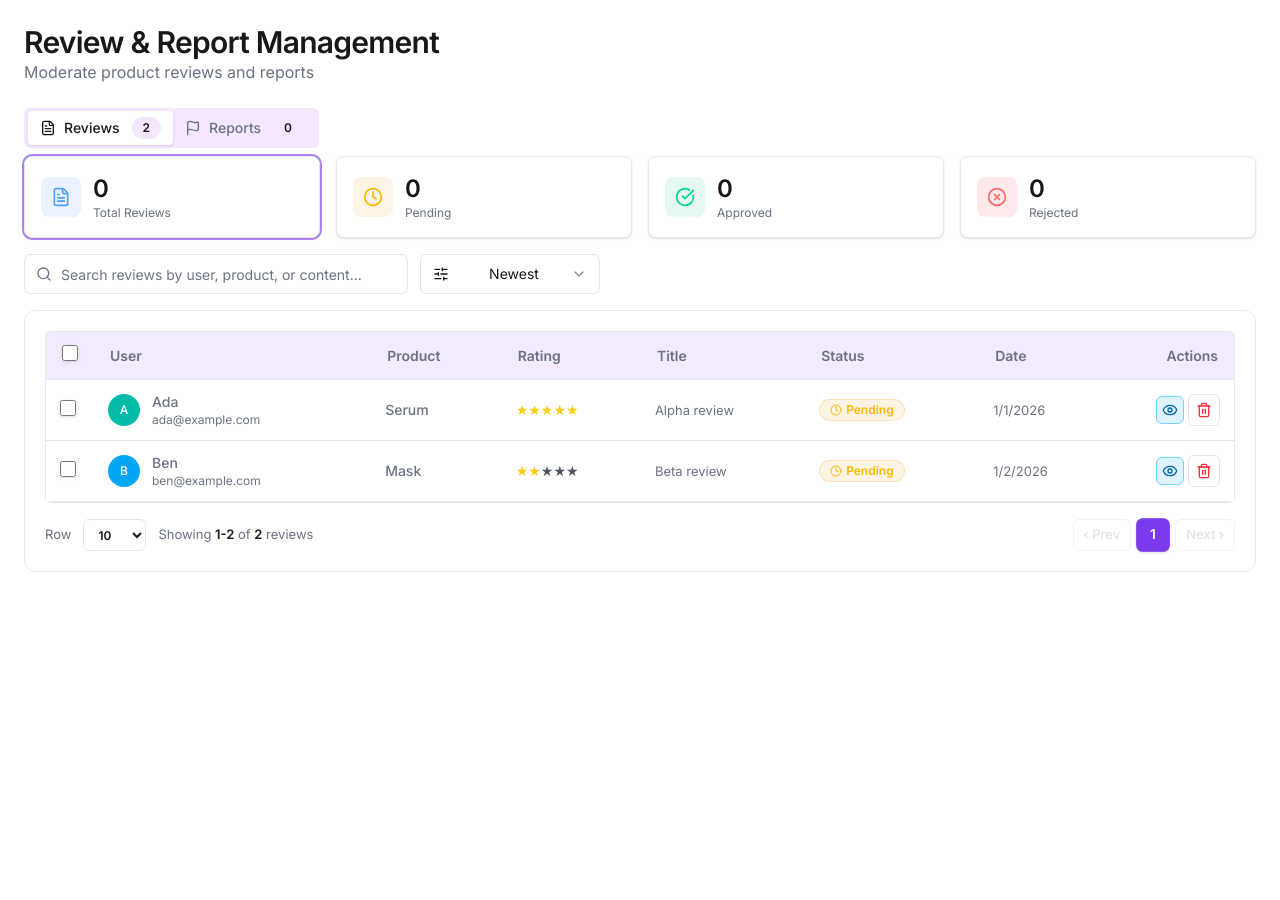
Test: ReviewManagement bulk action modals › does not update review status when a modal is cancelled
expect the text "Alpha review" is shown: met, box left=641, top=380, right=805, bottom=441
Click the checkbox next to "User" at {"x": 70, "y": 353}, box left=62, top=345, right=78, bottom=361
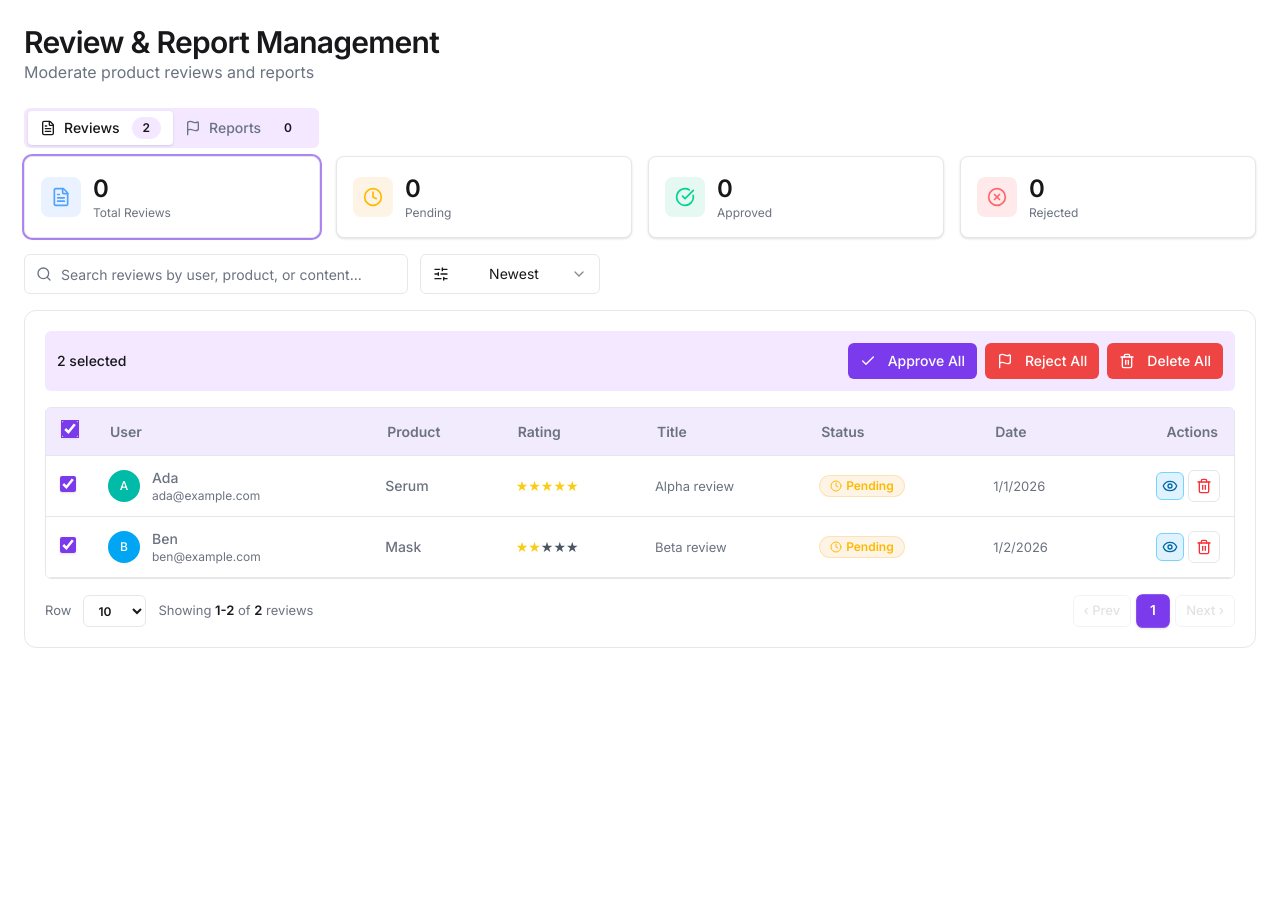
expect the text "2 selected" is shown: met, box left=57, top=351, right=126, bottom=371
Click the button "Approve All" at {"x": 912, "y": 361}, box left=848, top=343, right=977, bottom=379
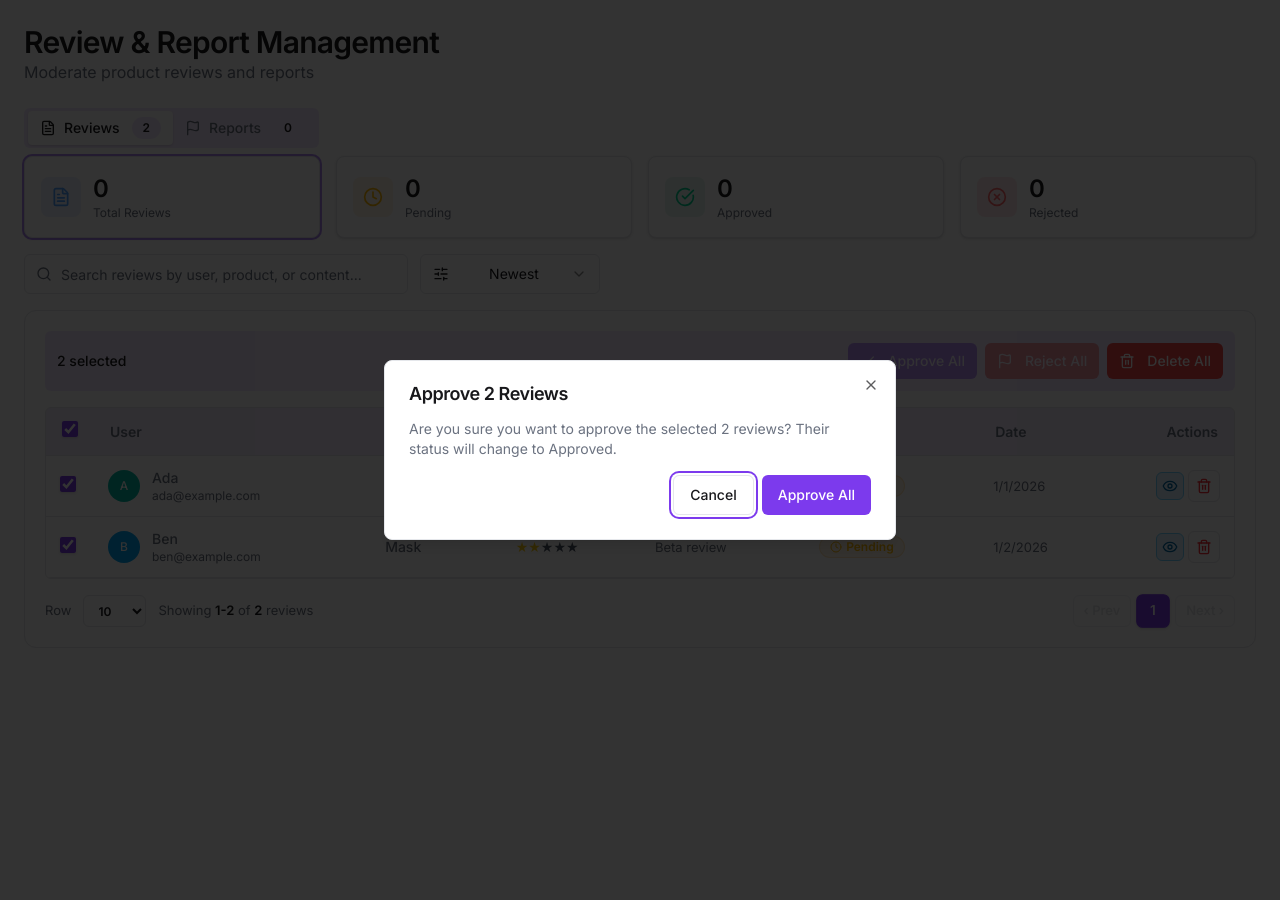
Click the button "Cancel" at {"x": 713, "y": 495}, box left=673, top=475, right=754, bottom=515
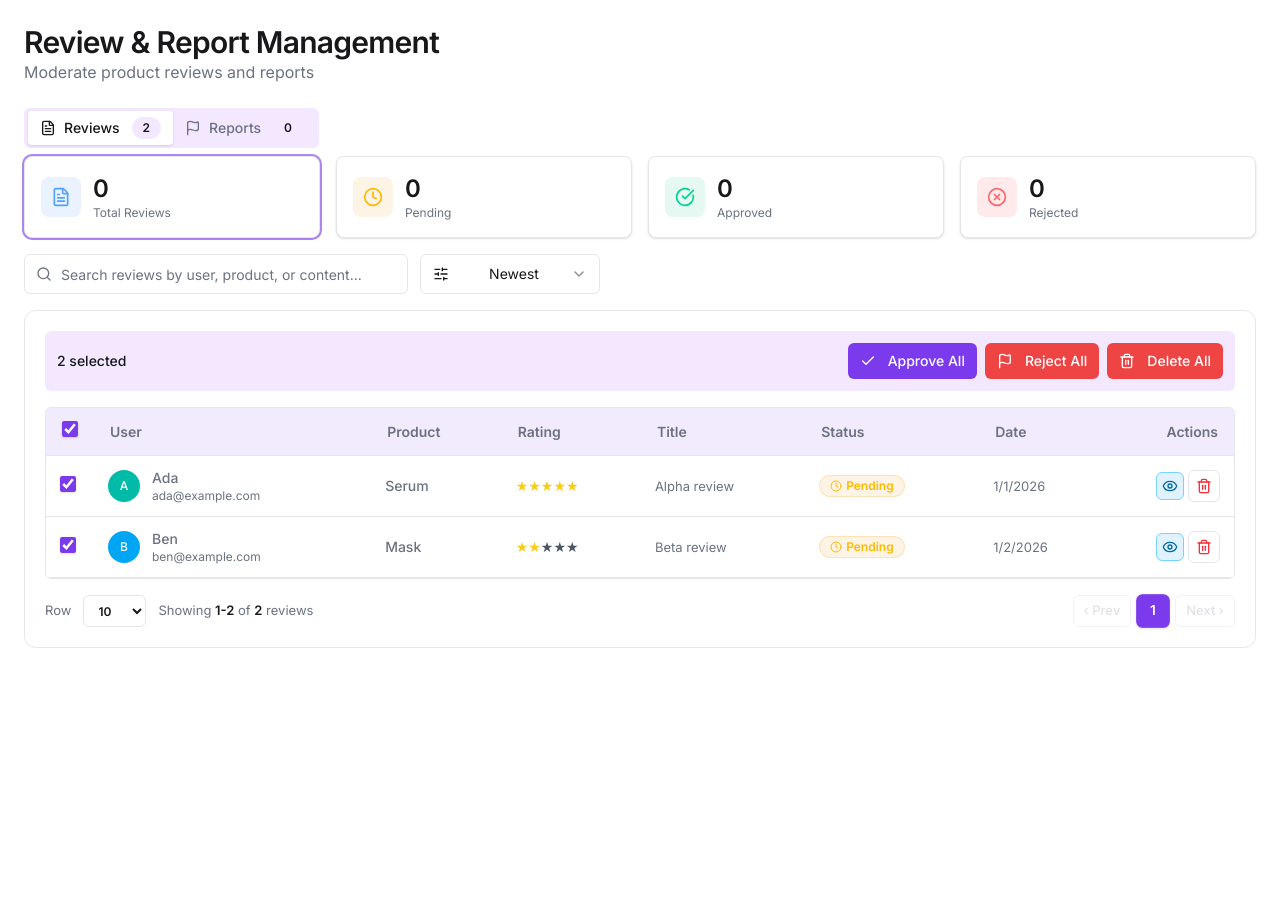
expect the dialog is gone: met
